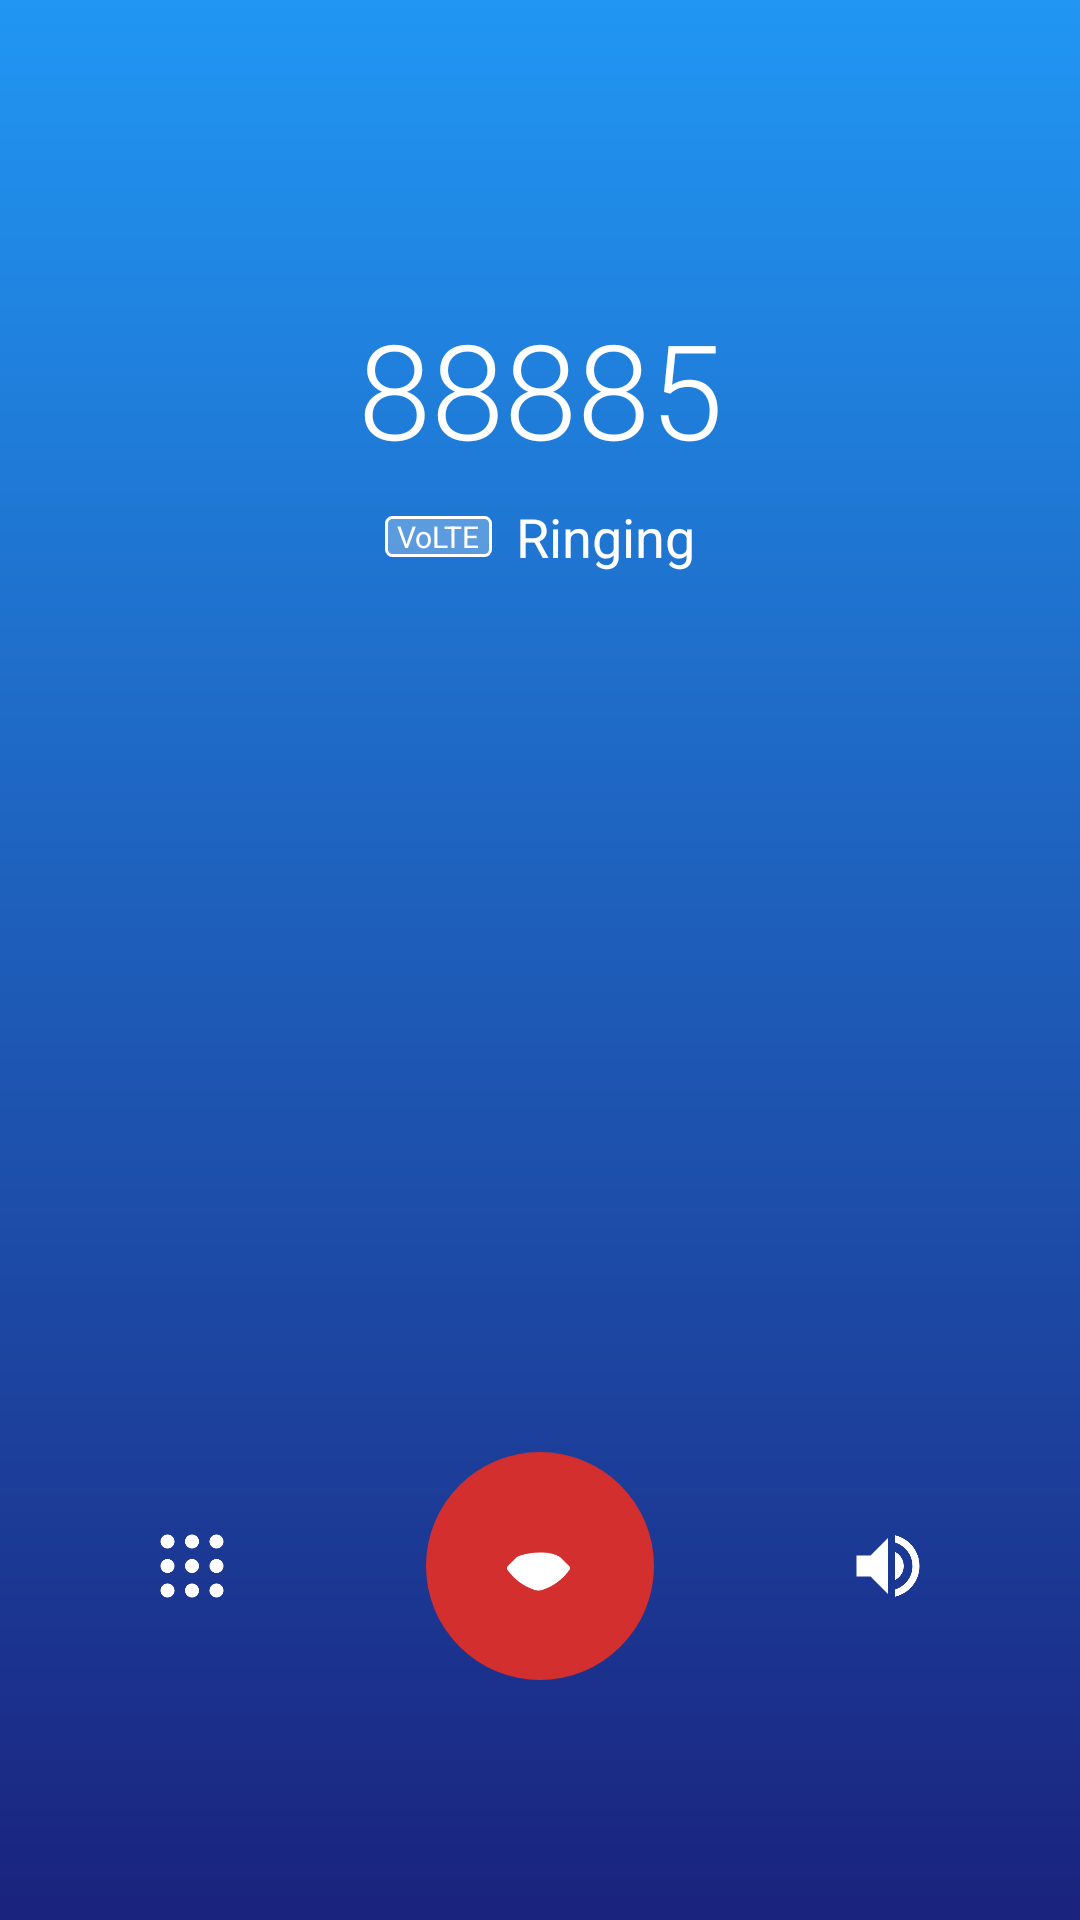

Named icons in this screenshot (1080w x 1920h) and their bounding boxes, [x1,y1,x2,y2]:
call end: [426,1452,654,1680]
dialpad: [160,1534,224,1598]
speaker: [856,1535,920,1597]
